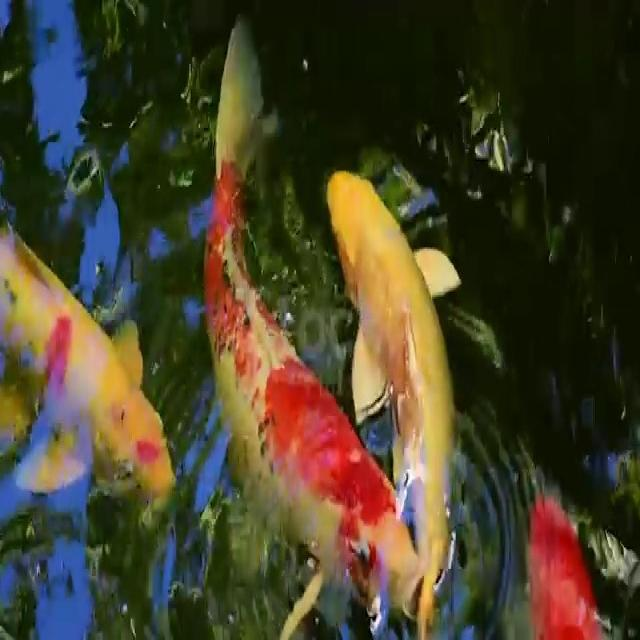fish: (192, 4, 410, 633), (318, 139, 469, 640), (0, 189, 180, 535), (516, 456, 606, 640)
